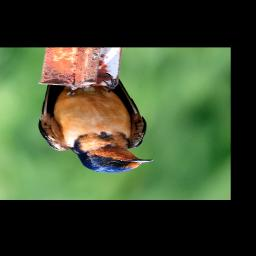Swallow: (38, 72, 154, 174)
